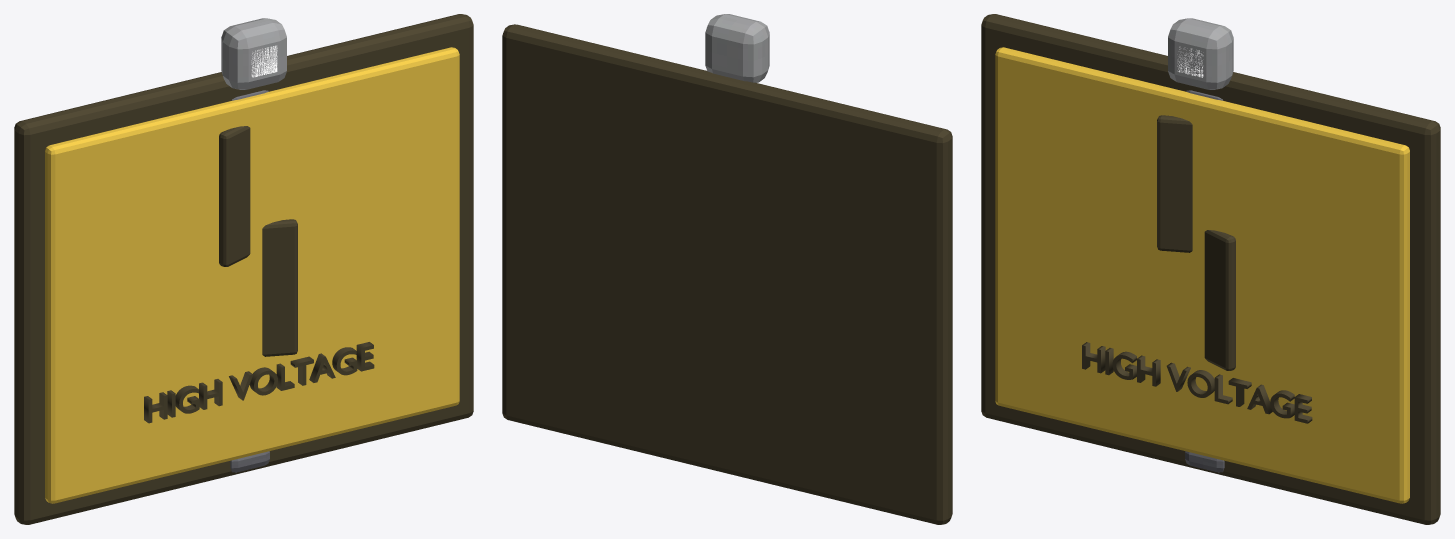
Rendered from decor_eng_hv_warning_sign.glb.
3 views of the same model, side by side, from view 1: azimuth 30°, elevation 25°; view 2: azimuth 150°, elevation 25°; view 3: azimuth 330°, elevation 25° (orthographic). The views are drawn at different scales.
Visible parts, largest first — view 1: DEC_EngHvWarningSign__Face_Plate, DEC_EngHvWarningSign__Backing_Plate, DEC_EngHvWarningSign__Bolt_Seg_2, DEC_EngHvWarningSign__Warning_Text, DEC_EngHvWarningSign__Bolt_Seg_1, DEC_EngHvWarningSign__Strobe_Housing, DEC_EngHvWarningSign__Strobe_Lens, DEC_EngHvWarningSign__Mount_Bracket_Bottom; view 2: DEC_EngHvWarningSign__Backing_Plate, DEC_EngHvWarningSign__Strobe_Housing; view 3: DEC_EngHvWarningSign__Face_Plate, DEC_EngHvWarningSign__Backing_Plate, DEC_EngHvWarningSign__Bolt_Seg_1, DEC_EngHvWarningSign__Warning_Text, DEC_EngHvWarningSign__Bolt_Seg_2, DEC_EngHvWarningSign__Strobe_Housing, DEC_EngHvWarningSign__Mount_Bracket_Bottom.
Boxes of the visible parts, box(x1,y1,x2,y2) form: DEC_EngHvWarningSign__Face_Plate: box(45, 47, 459, 503); DEC_EngHvWarningSign__Backing_Plate: box(14, 14, 473, 524); DEC_EngHvWarningSign__Bolt_Seg_2: box(262, 219, 297, 356); DEC_EngHvWarningSign__Warning_Text: box(144, 342, 374, 423); DEC_EngHvWarningSign__Bolt_Seg_1: box(219, 126, 250, 266); DEC_EngHvWarningSign__Strobe_Housing: box(221, 18, 286, 89); DEC_EngHvWarningSign__Strobe_Lens: box(251, 45, 277, 77); DEC_EngHvWarningSign__Mount_Bracket_Bottom: box(230, 451, 269, 472); DEC_EngHvWarningSign__Backing_Plate: box(502, 24, 952, 524); DEC_EngHvWarningSign__Strobe_Housing: box(705, 14, 769, 82); DEC_EngHvWarningSign__Face_Plate: box(995, 47, 1409, 503); DEC_EngHvWarningSign__Backing_Plate: box(981, 14, 1440, 524); DEC_EngHvWarningSign__Bolt_Seg_1: box(1157, 115, 1192, 252); DEC_EngHvWarningSign__Warning_Text: box(1082, 342, 1312, 423); DEC_EngHvWarningSign__Bolt_Seg_2: box(1204, 230, 1235, 370); DEC_EngHvWarningSign__Strobe_Housing: box(1168, 18, 1233, 89); DEC_EngHvWarningSign__Mount_Bracket_Bottom: box(1185, 451, 1224, 472).
Bounding box in the file's own units: 0.64 × 0.61 × 0.065.
5 materials, 2 textured.
